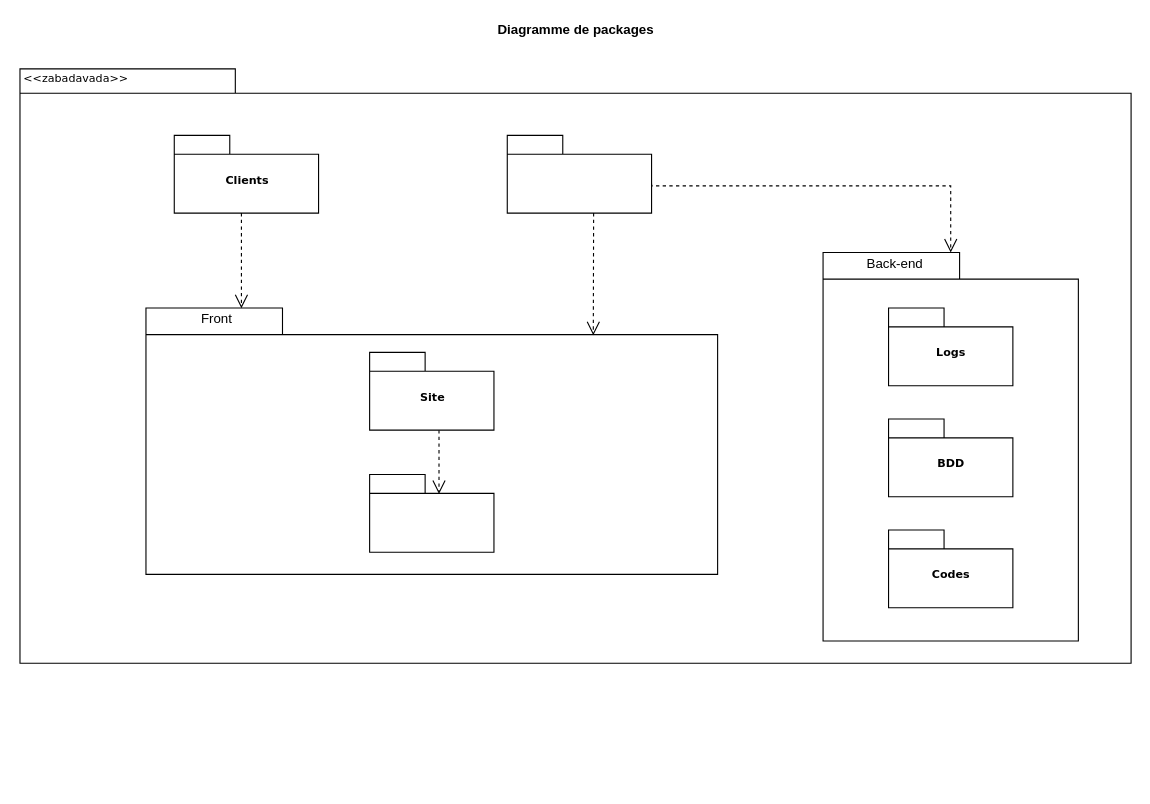
The diagram is 1150 pixels wide and 804 high, and some of its shapes have lost their labels. The shapes that lost their labels are listed below. From the top down, each one's box as (x1, y1, x2, y2) in pixels, then its label:
(506, 134, 652, 213): Administration
(369, 473, 494, 552): Fonctionnalités
